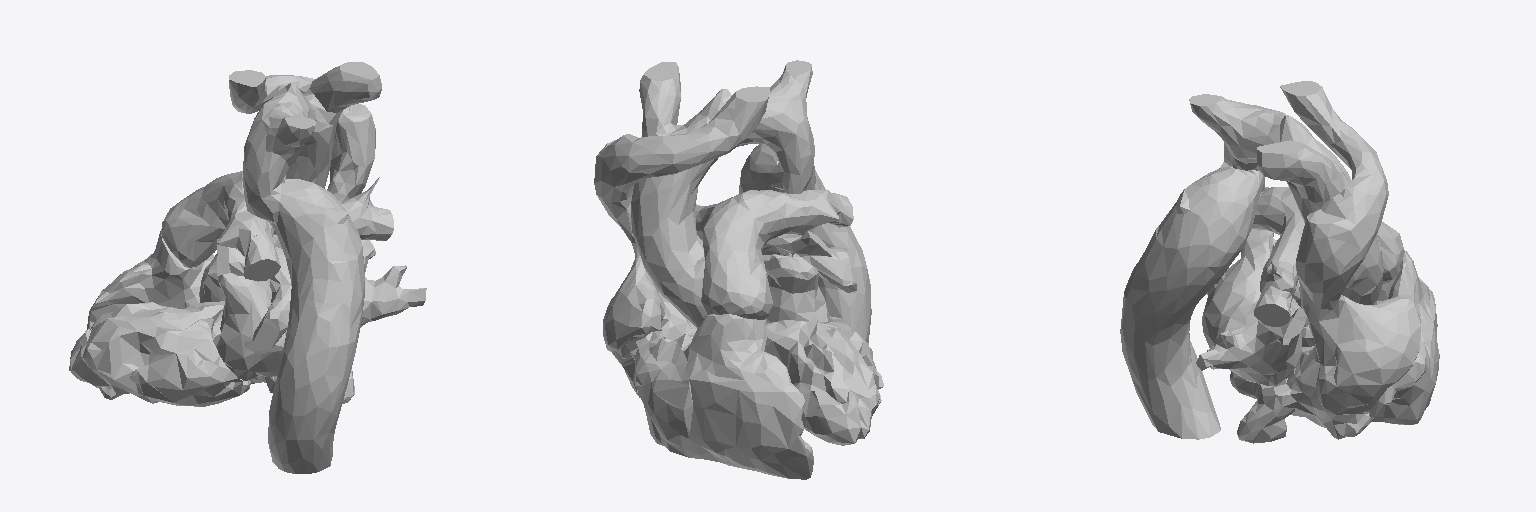
The model's file is 2018013-01LeftAtriumLowres.obj.
The picture shows the model from 3 angles: view 1: azimuth 30°, elevation 25°; view 2: azimuth 150°, elevation 25°; view 3: azimuth 270°, elevation 25°; orthographic projection.
Parts seen in each view (by area): view 1: Ccase_001_Pre_Ao_Repaired_Remeshed_Reduced90_Smoothed_Aligned, Ccase_001_Pre_Lv_Repaired_Remeshed_Reduced90_Smoothed_Aligned, Ccase_001_Pre_La_Repaired_Remeshed_Reduced90_Smoothed_Aligned, Ccase_001_Pre_Pa_Repaired_Remeshed_Reduced90_Smoothed_Aligned, Ccase_001_Pre_Ra_Repaired_Remeshed_Reduced90_Smoothed_Aligned, Ccase_001_Pre_Rv_Repaired_Remeshed_Reduced_90_Smoothed_Aligned; view 2: Ccase_001_Pre_Ao_Repaired_Remeshed_Reduced90_Smoothed_Aligned, Ccase_001_Pre_Rv_Repaired_Remeshed_Reduced_90_Smoothed_Aligned, Ccase_001_Pre_Ra_Repaired_Remeshed_Reduced90_Smoothed_Aligned, Ccase_001_Pre_Pa_Repaired_Remeshed_Reduced90_Smoothed_Aligned, Ccase_001_Pre_Lv_Repaired_Remeshed_Reduced90_Smoothed_Aligned, Ccase_001_Pre_La_Repaired_Remeshed_Reduced90_Smoothed_Aligned; view 3: Ccase_001_Pre_Ao_Repaired_Remeshed_Reduced90_Smoothed_Aligned, Ccase_001_Pre_Ra_Repaired_Remeshed_Reduced90_Smoothed_Aligned, Ccase_001_Pre_La_Repaired_Remeshed_Reduced90_Smoothed_Aligned, Ccase_001_Pre_Pa_Repaired_Remeshed_Reduced90_Smoothed_Aligned, Ccase_001_Pre_Rv_Repaired_Remeshed_Reduced_90_Smoothed_Aligned.
Boxes of the visible parts, x1=… form: Ccase_001_Pre_Ao_Repaired_Remeshed_Reduced90_Smoothed_Aligned: x1=199, y1=62, x2=381, y2=473; Ccase_001_Pre_Lv_Repaired_Remeshed_Reduced90_Smoothed_Aligned: x1=69, y1=301, x2=250, y2=406; Ccase_001_Pre_La_Repaired_Remeshed_Reduced90_Smoothed_Aligned: x1=216, y1=238, x2=426, y2=380; Ccase_001_Pre_Pa_Repaired_Remeshed_Reduced90_Smoothed_Aligned: x1=161, y1=171, x2=393, y2=281; Ccase_001_Pre_Ra_Repaired_Remeshed_Reduced90_Smoothed_Aligned: x1=229, y1=70, x2=375, y2=403; Ccase_001_Pre_Rv_Repaired_Remeshed_Reduced_90_Smoothed_Aligned: x1=87, y1=231, x2=265, y2=399; Ccase_001_Pre_Ao_Repaired_Remeshed_Reduced90_Smoothed_Aligned: x1=631, y1=60, x2=871, y2=342; Ccase_001_Pre_Rv_Repaired_Remeshed_Reduced_90_Smoothed_Aligned: x1=635, y1=314, x2=813, y2=479; Ccase_001_Pre_Ra_Repaired_Remeshed_Reduced90_Smoothed_Aligned: x1=594, y1=86, x2=769, y2=397; Ccase_001_Pre_Pa_Repaired_Remeshed_Reduced90_Smoothed_Aligned: x1=695, y1=190, x2=853, y2=319; Ccase_001_Pre_Lv_Repaired_Remeshed_Reduced90_Smoothed_Aligned: x1=765, y1=316, x2=883, y2=445; Ccase_001_Pre_La_Repaired_Remeshed_Reduced90_Smoothed_Aligned: x1=762, y1=230, x2=856, y2=322; Ccase_001_Pre_Ao_Repaired_Remeshed_Reduced90_Smoothed_Aligned: x1=1120, y1=94, x2=1383, y2=439; Ccase_001_Pre_Ra_Repaired_Remeshed_Reduced90_Smoothed_Aligned: x1=1230, y1=81, x2=1420, y2=443; Ccase_001_Pre_La_Repaired_Remeshed_Reduced90_Smoothed_Aligned: x1=1196, y1=229, x2=1306, y2=385; Ccase_001_Pre_Pa_Repaired_Remeshed_Reduced90_Smoothed_Aligned: x1=1251, y1=187, x2=1403, y2=326; Ccase_001_Pre_Rv_Repaired_Remeshed_Reduced_90_Smoothed_Aligned: x1=1372, y1=250, x2=1439, y2=424.
Bounding box in the file's own units: 141 × 160 × 136.